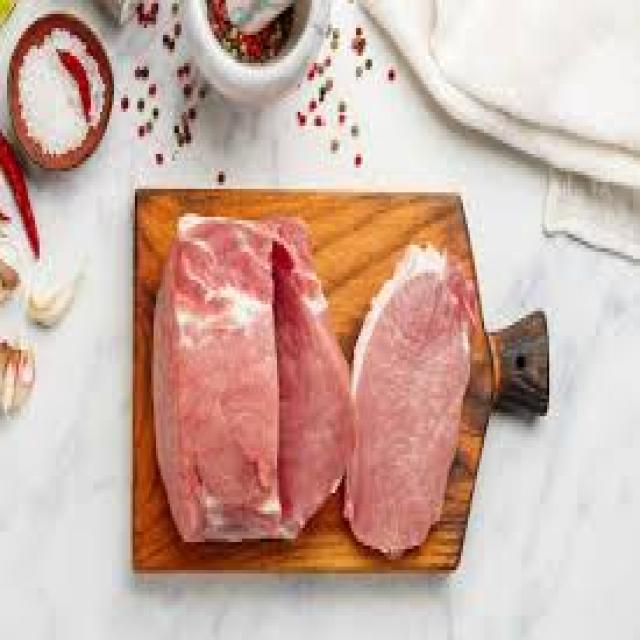Pork: (154, 214, 351, 540), (345, 246, 483, 555)
